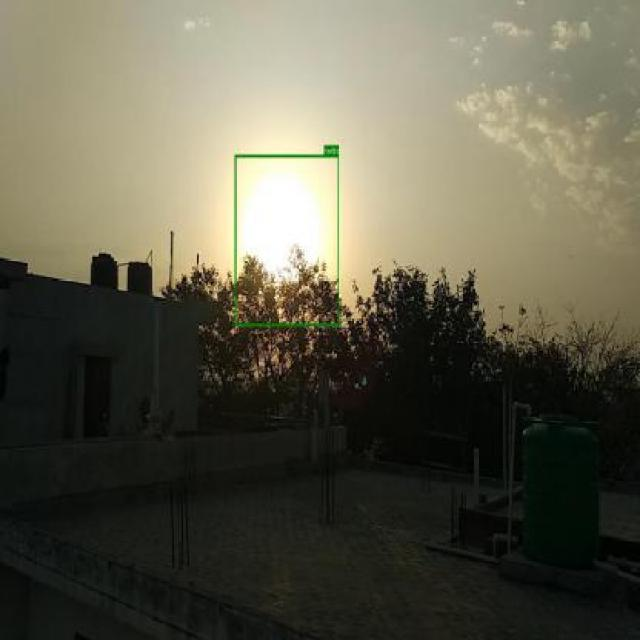other: (235, 154, 340, 326)
